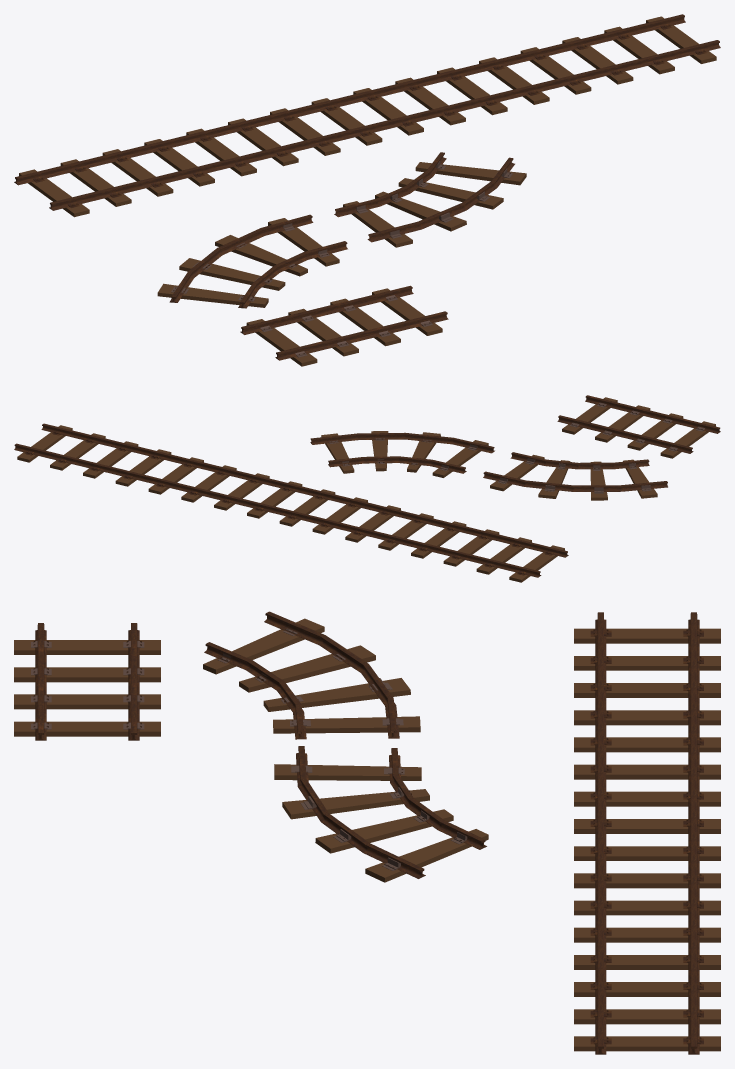
Rendered from track.fbx.
The picture shows the model from 3 angles, top to bottom: view 1: azimuth 30°, elevation 25°; view 2: azimuth 150°, elevation 25°; view 3: azimuth 270°, elevation 25°; orthographic projection. The views are drawn at different scales.
Visible parts, largest first — view 1: Cube.005, Cube.003, Cube.006, Cube.001, Cube.004, Cube; view 2: Cube.005, Cube.003, Cube.001, Cube.006, Cube.004, Cube; view 3: Cube.005, Cube.001, Cube.006, Cube.003, Cube.004, Cube.
Part boxes in pixels (x1,y1,x2,y2): Cube.005: (19,16,716,217); Cube.003: (14,14,720,210); Cube.006: (157,214,347,308); Cube.001: (334,152,526,247); Cube.004: (246,288,442,366); Cube: (240,285,448,360); Cube.005: (17,425,564,582); Cube.003: (14,423,568,577); Cube.001: (310,431,494,477); Cube.006: (483,452,667,500); Cube.004: (562,397,715,458); Cube: (557,395,720,453); Cube.005: (574,628,720,1051); Cube.001: (274,746,488,882); Cube.006: (203,611,420,739); Cube.003: (595,612,699,1054); Cube.004: (14,640,160,736); Cube: (35,623,139,740).
Size of the model in its own units: 4230 by 68.65 by 2887.
